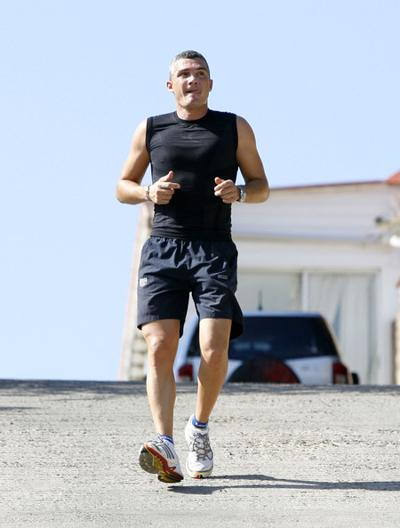person: (116, 51, 272, 486)
